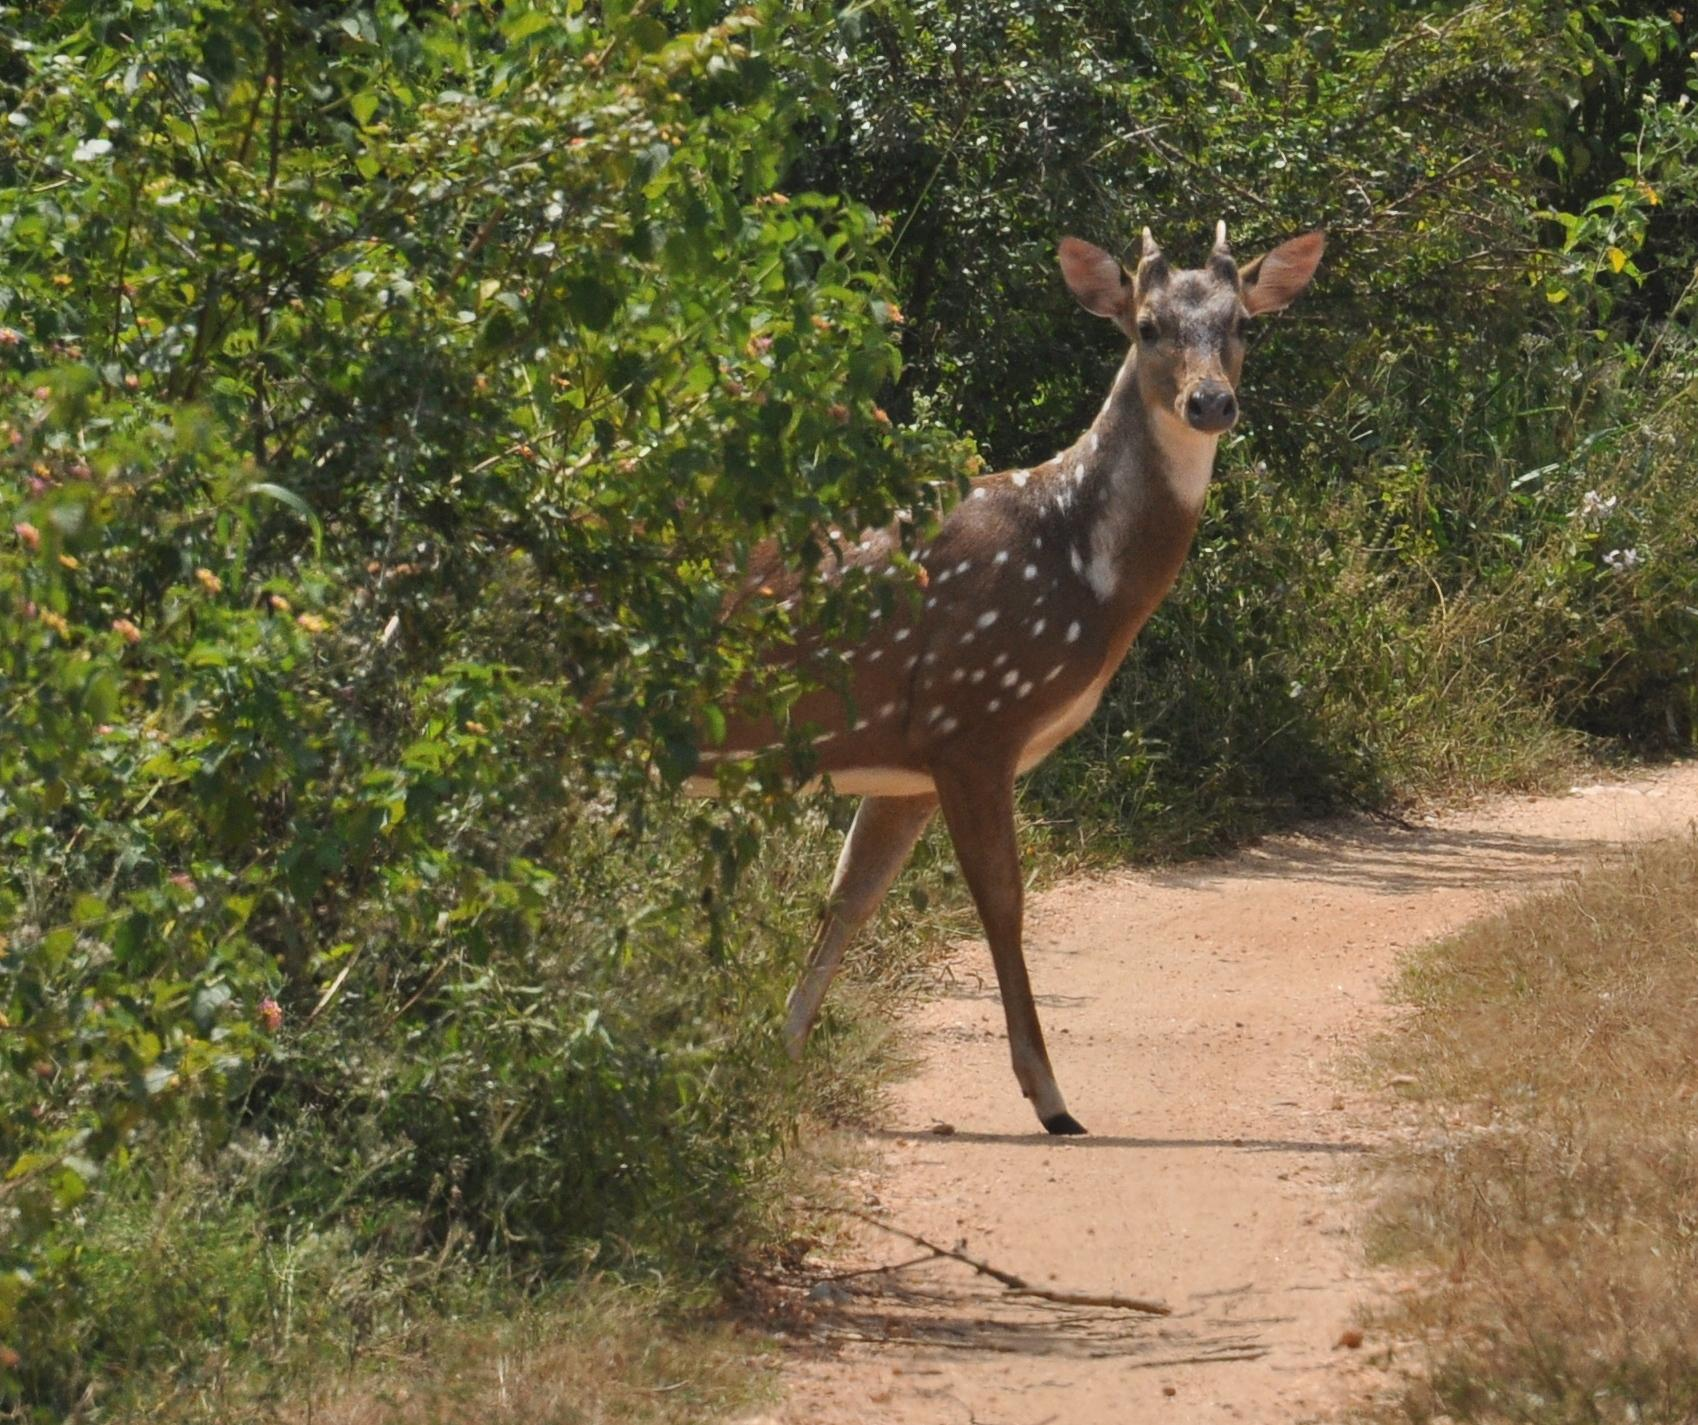Deer: (691, 223, 1321, 1132)
